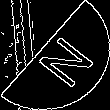N_NW: (20, 23, 90, 87)
